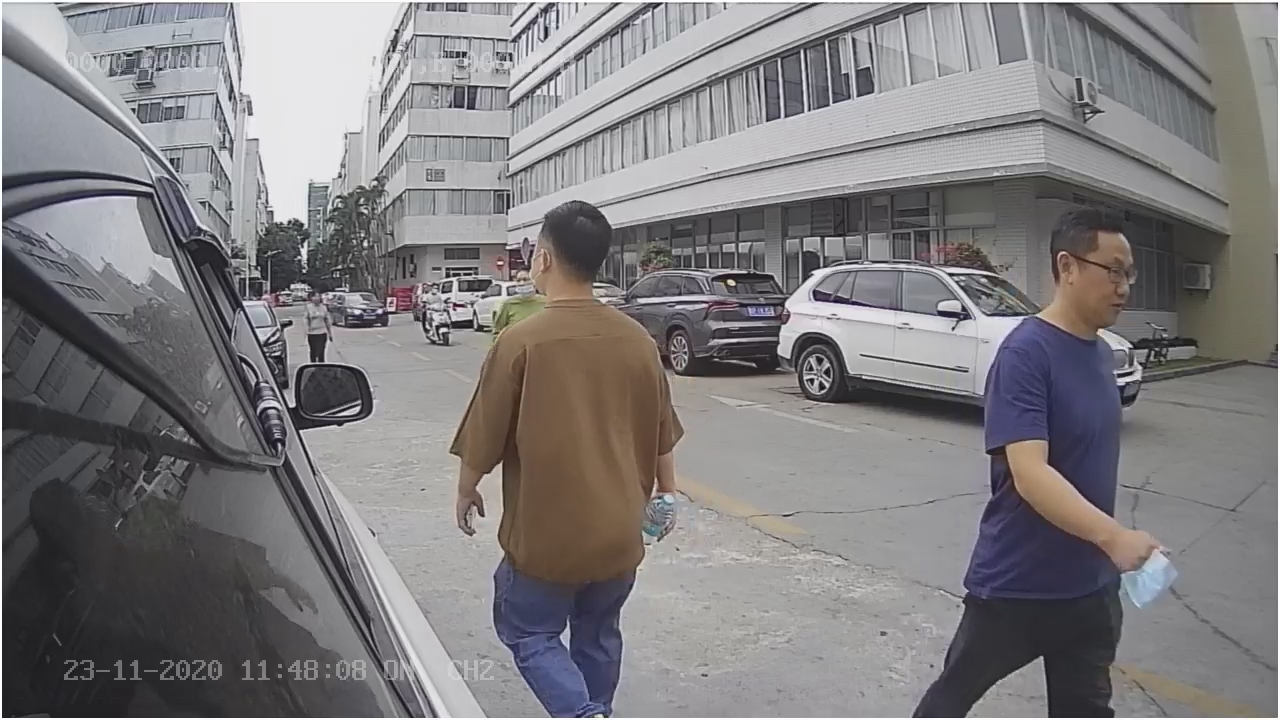person: (448, 178, 699, 543), (968, 200, 1180, 576)
